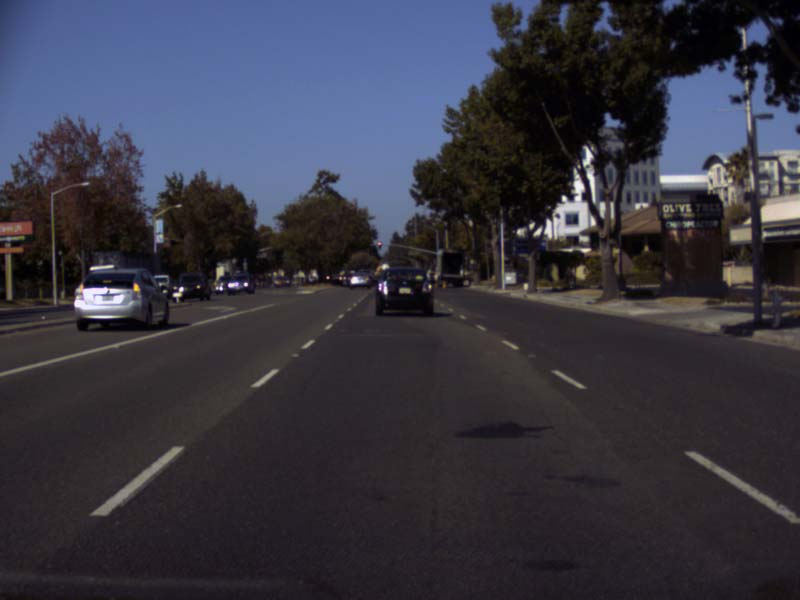Red: (377, 242, 381, 249)
